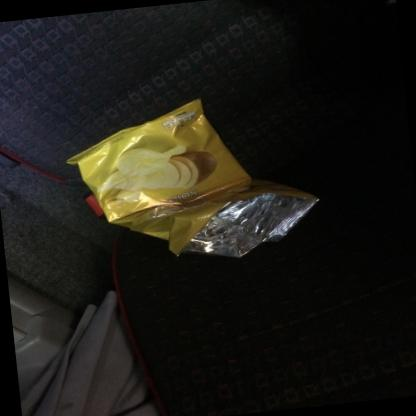Plastic: (65, 97, 319, 257)
